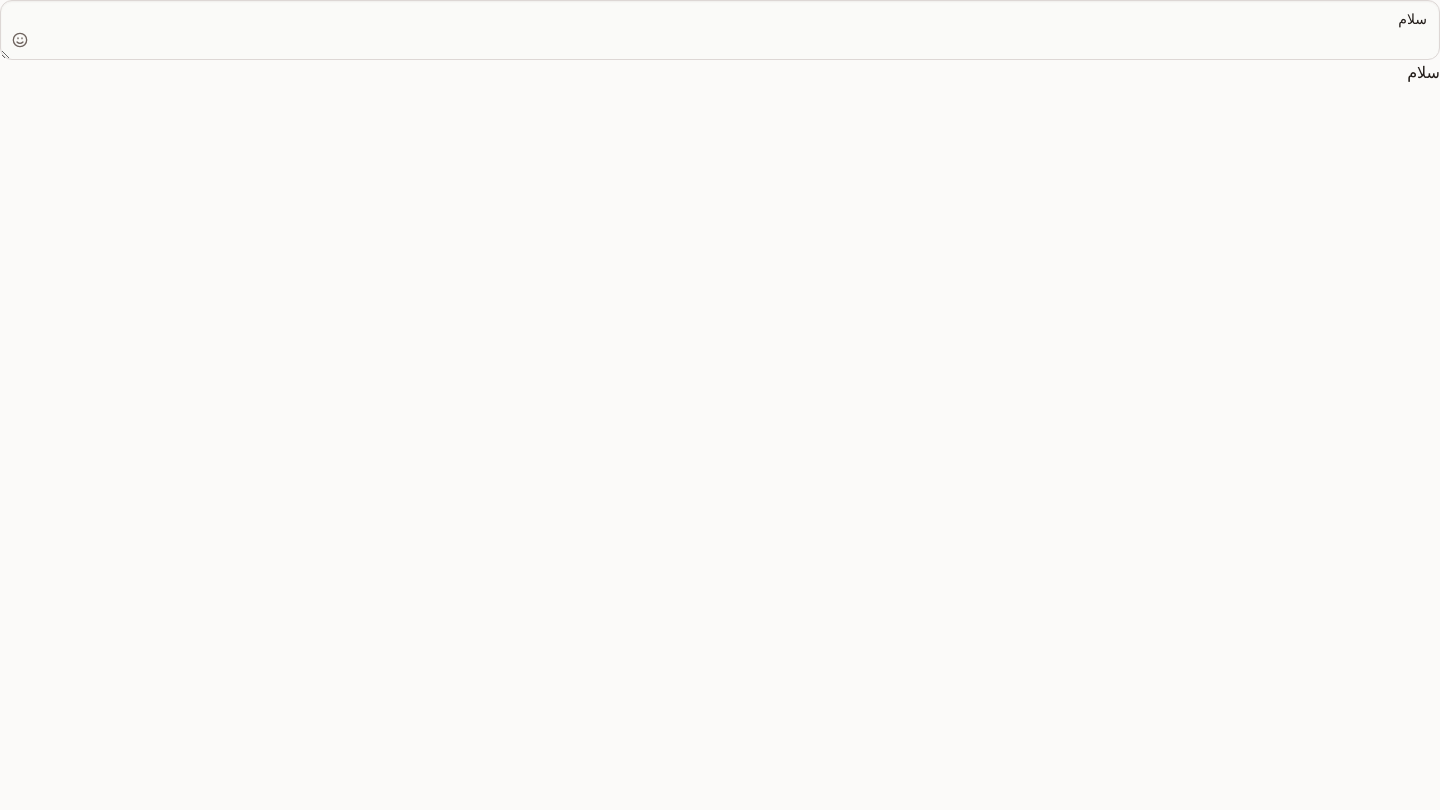
Test case: inside EmojiProvider › Textarea shows the picker, lists only ENABLED emojis, and inserts :name: into a CONTROLLED textarea
Click the button with test id "emoji-picker-trigger" at x=20, y=40, box [6,26,34,54]
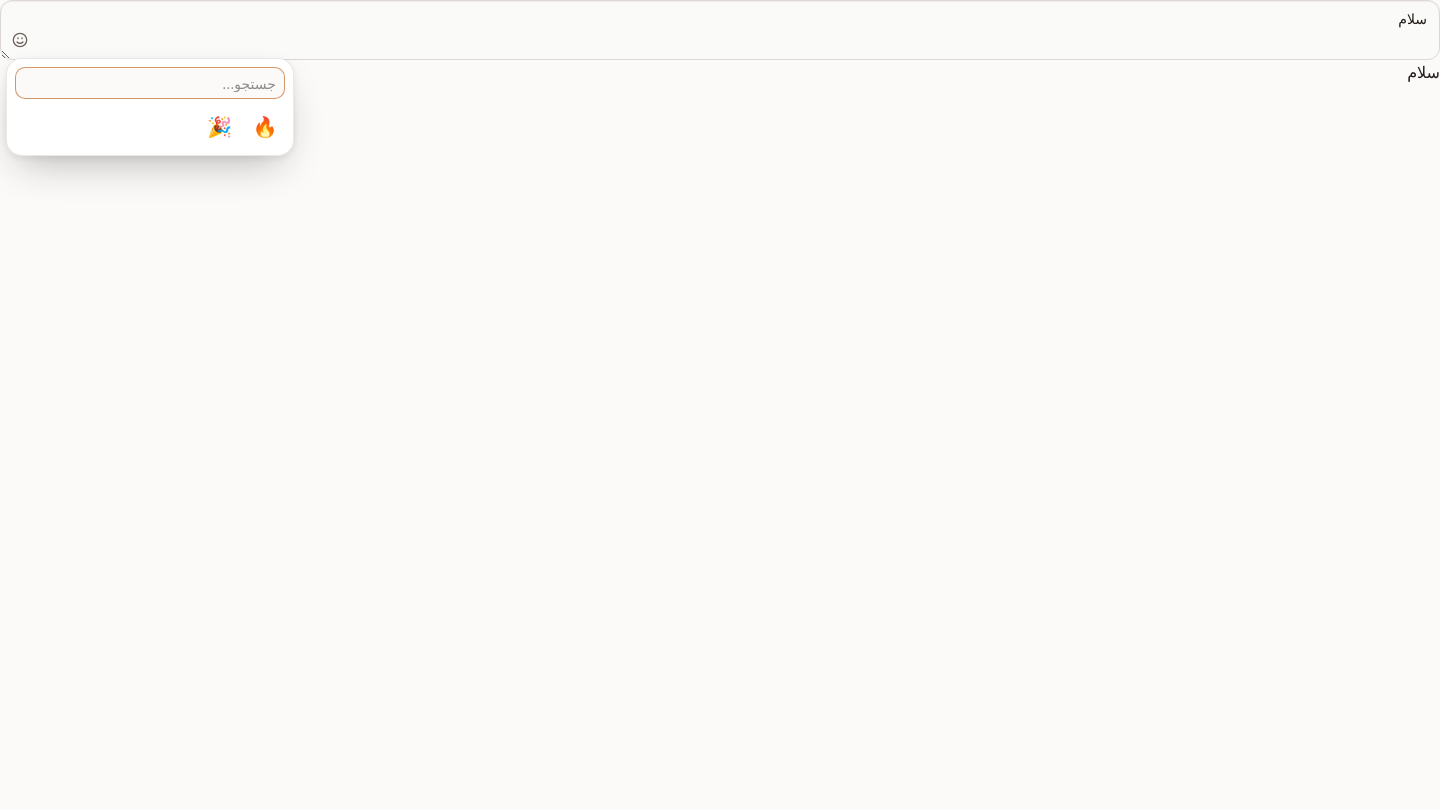
Check: the options read "🔥", "🎉", in this order
Click the option "🔥" at x=265, y=127, box [245,107,285,147]
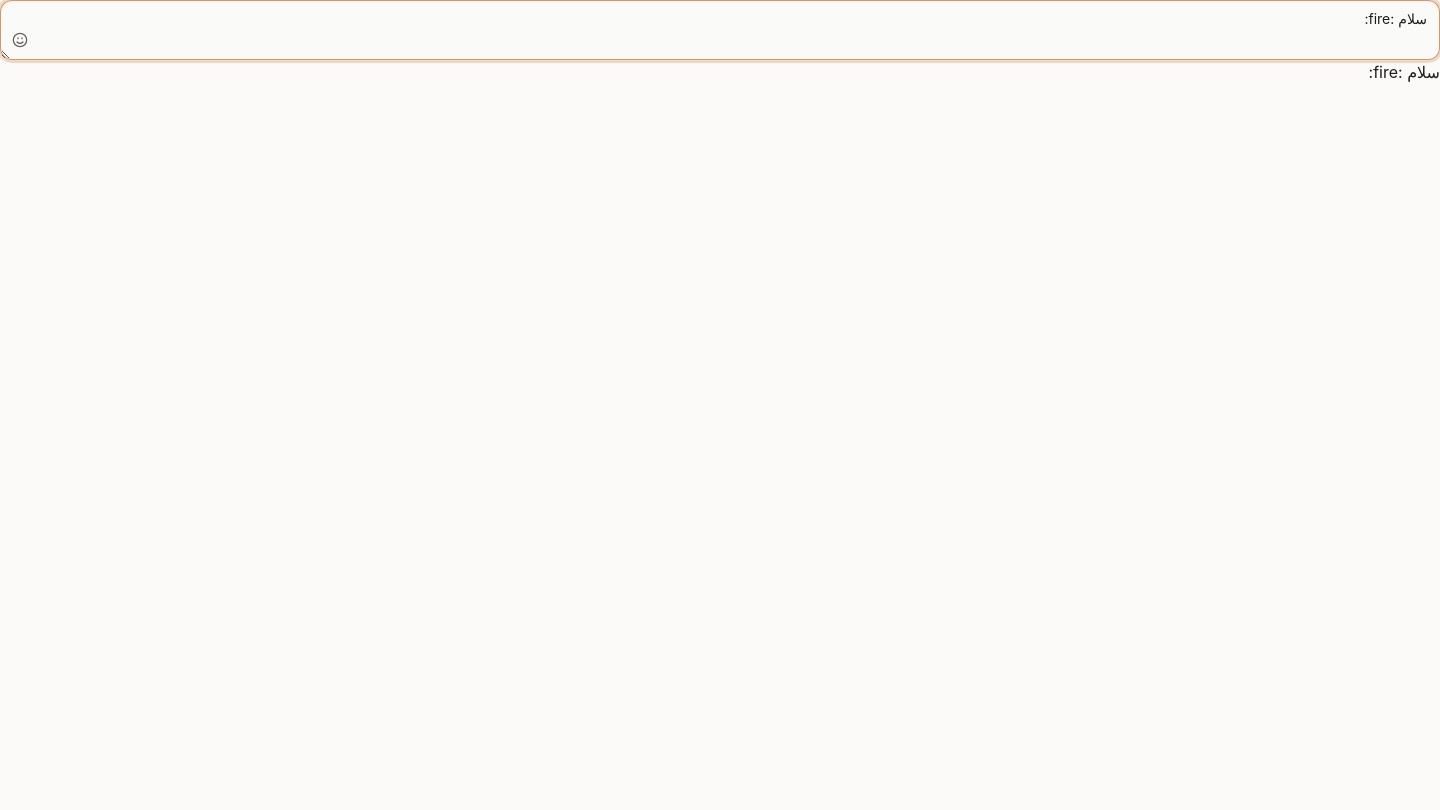
Check: the text with test id "state" reads "سلام :fire:", box [1368,62,1439,82]
Check: the text box named "msg" holds "سلام :fire:", box [0,0,1439,60]
